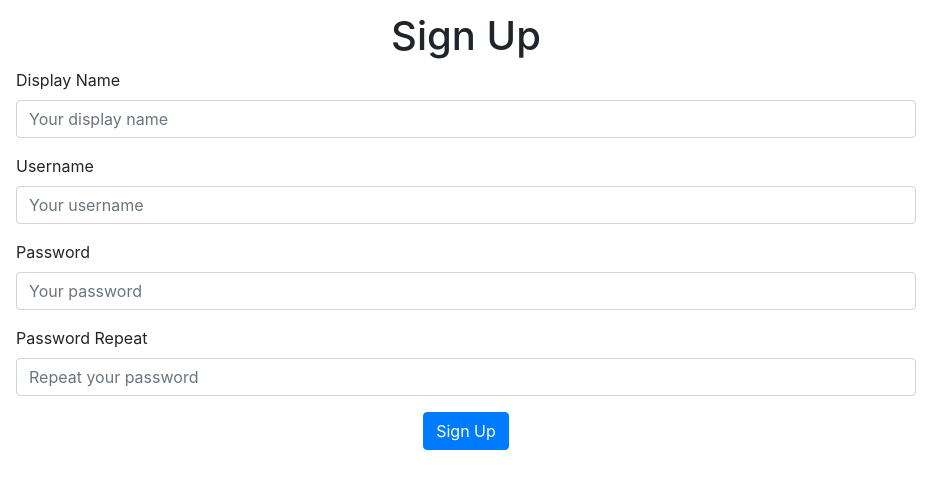
UserSignupPage › Interactions › hides the validation error when user changes the content of displayName
Type "my-display-name" into the field with placeholder "Your display name" at (466, 119), box [16,100,916,138]
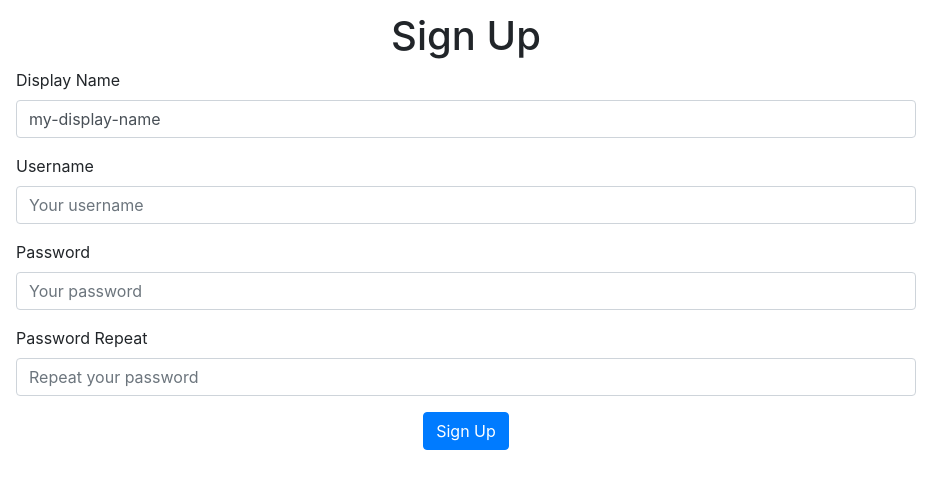
Type "my-username" into the field with placeholder "Your username" at (466, 205), box [16,186,916,224]
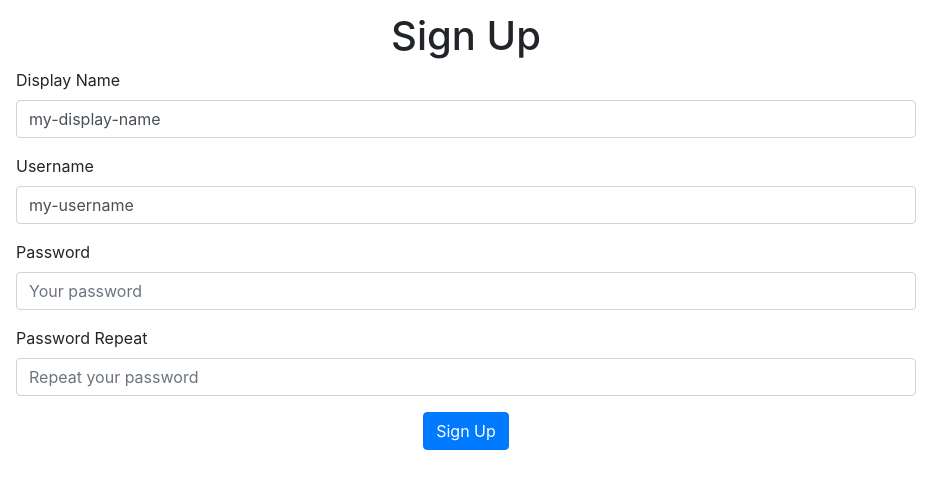
Type "P4ssword" into the password field with placeholder "Your password" at (466, 291), box [16,272,916,310]
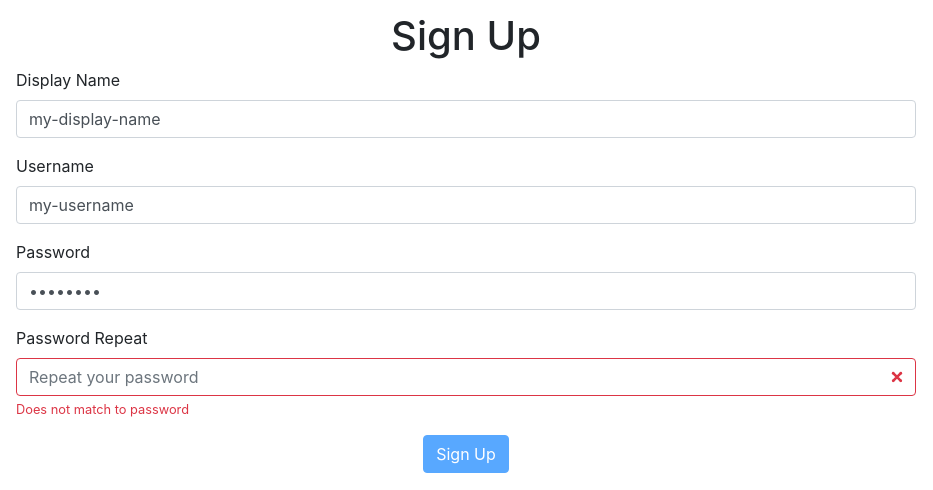
Type "P4ssword" into the password field with placeholder "Repeat your password" at (466, 377), box [16,358,916,396]
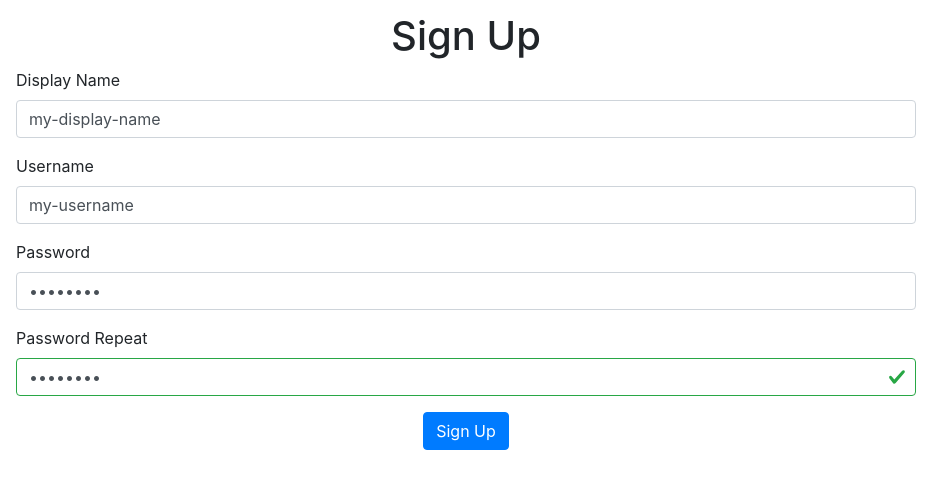
Click the button "Sign Up" at (466, 431), box [423,412,509,450]
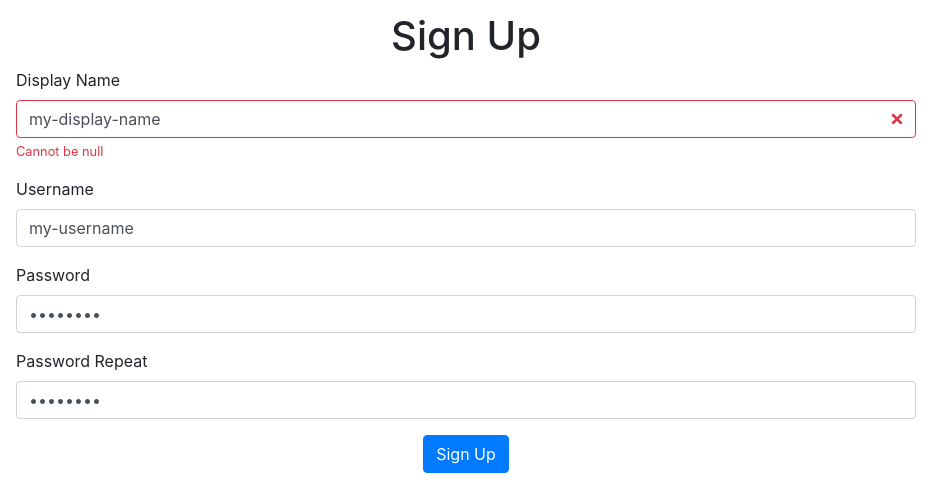
Result: the text "Cannot be null" is shown at [16,144,103,159]
Replace the text in the field with placeholder "Your display name" below "Display Name" with "name updated" at (466, 119), box [16,100,916,138]
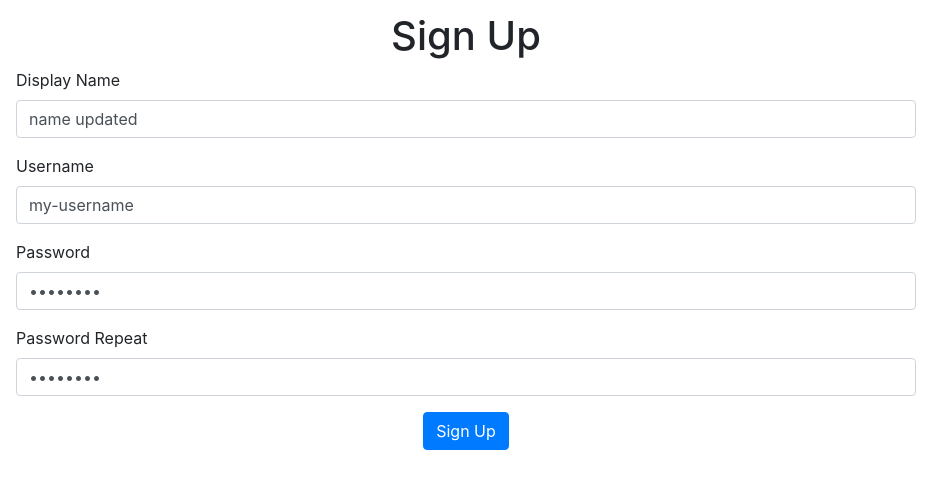
Result: the text "Cannot be null" is gone
